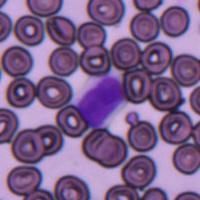M: (75, 71, 125, 129)
